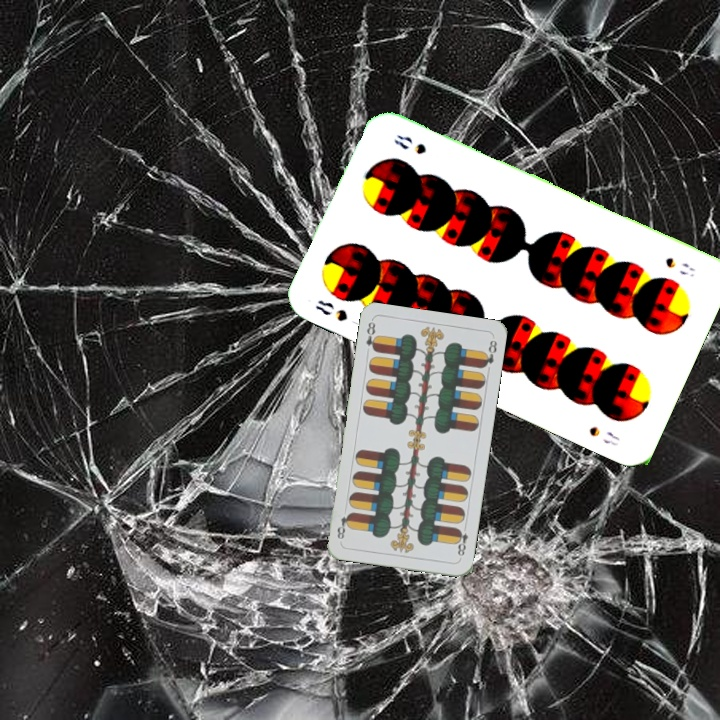E8: (452, 521, 470, 559), (362, 317, 380, 354)
S8: (311, 295, 350, 324), (661, 253, 697, 280)
